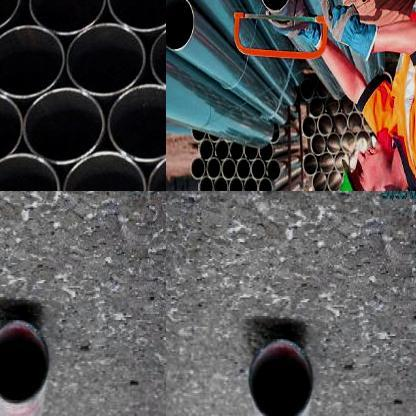pipe: (22, 86, 104, 164), (66, 22, 145, 96), (249, 337, 313, 416), (0, 25, 65, 98), (107, 83, 166, 162), (0, 318, 49, 406), (63, 151, 147, 191), (29, 0, 106, 35), (0, 154, 60, 191), (107, 0, 166, 32), (0, 90, 23, 167), (166, 0, 194, 50), (149, 19, 166, 94), (299, 76, 315, 102), (310, 134, 326, 156), (317, 114, 333, 136), (260, 0, 291, 11), (341, 130, 355, 154), (266, 159, 281, 181), (303, 154, 318, 176), (319, 152, 334, 174), (311, 171, 327, 191), (214, 139, 229, 160), (309, 97, 324, 118), (327, 170, 342, 191), (251, 159, 266, 180), (326, 132, 340, 154), (333, 112, 347, 134), (236, 158, 250, 180), (191, 158, 205, 180), (222, 158, 236, 180), (228, 142, 244, 161), (199, 140, 214, 160), (347, 112, 362, 132), (206, 158, 221, 178), (334, 152, 349, 172), (302, 117, 316, 138), (324, 97, 340, 114), (259, 144, 273, 162), (191, 126, 206, 142), (199, 176, 214, 191), (213, 176, 228, 191), (244, 146, 258, 162), (244, 177, 258, 191), (228, 178, 243, 191), (258, 178, 272, 191)
